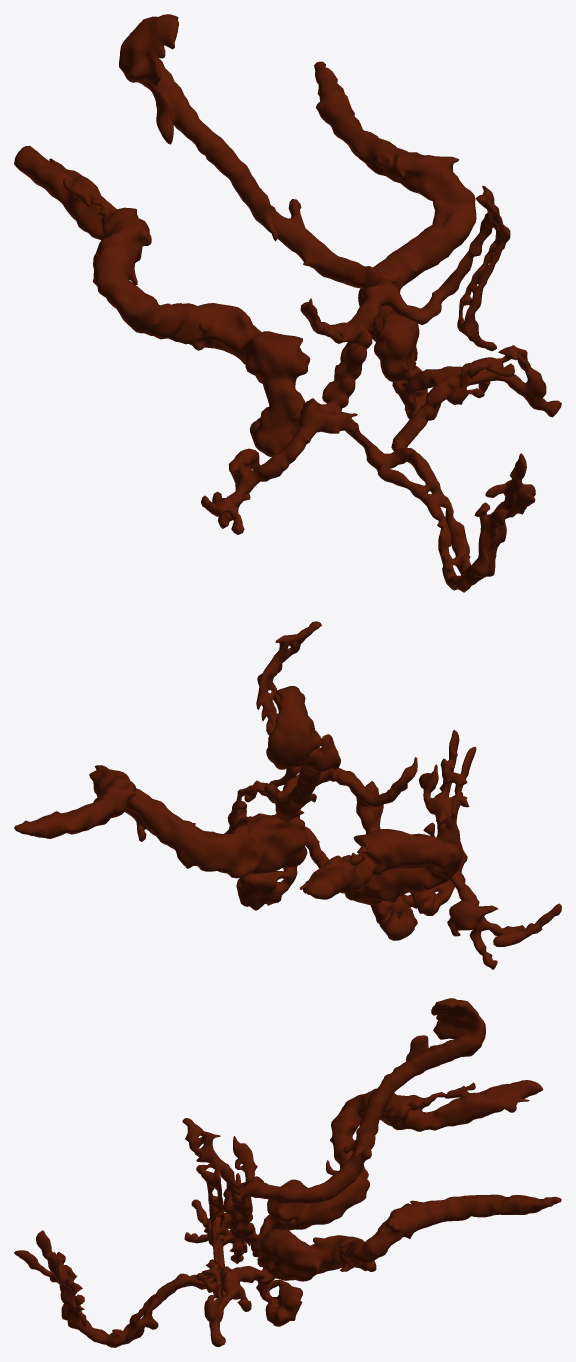
The model's file is Arteries.obj.
The picture shows the model from 3 angles, top to bottom: view 1: azimuth 30°, elevation 25°; view 2: azimuth 150°, elevation 25°; view 3: azimuth 270°, elevation 25°; orthographic projection. The views are drawn at different scales.
Visible parts, largest first — view 1: grp1; view 2: grp1; view 3: grp1.
Boxes of the visible parts, bbox=[...] form: grp1: bbox=[14, 14, 561, 592]; grp1: bbox=[14, 621, 561, 969]; grp1: bbox=[14, 998, 561, 1347].
Bounding box in the file's own units: 71.55 × 74.96 × 115.
